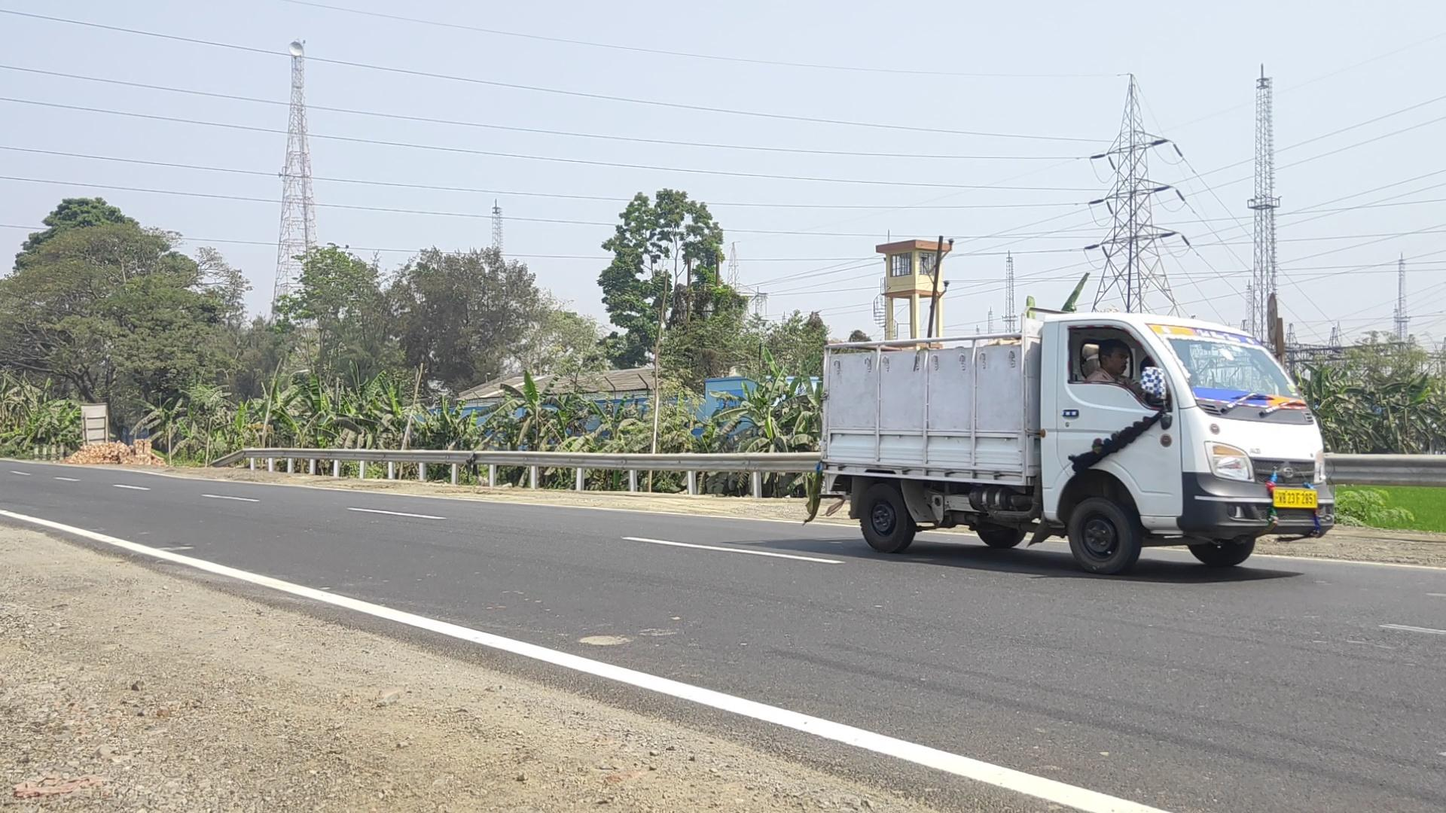van: (819, 306, 1336, 577)
